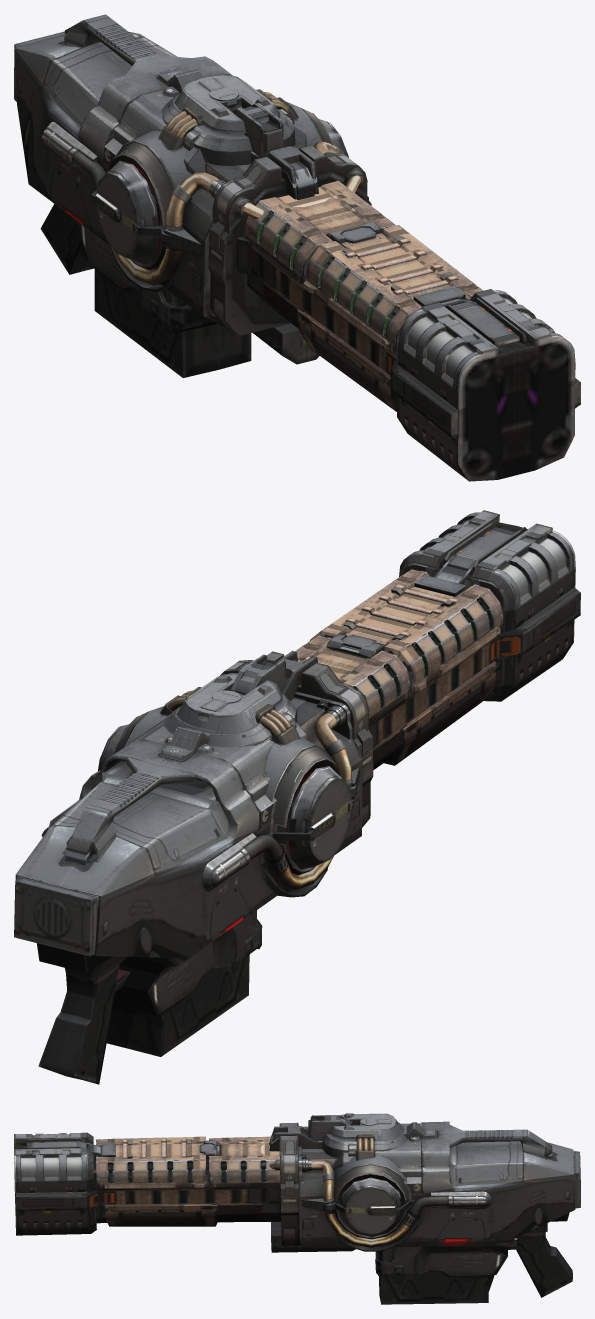
File: FPS_anim_W114.fbx
The picture shows the model from 3 angles, top to bottom: view 1: azimuth 30°, elevation 25°; view 2: azimuth 150°, elevation 25°; view 3: azimuth 270°, elevation 25°; orthographic projection. The views are drawn at different scales.
Visible parts, largest first — view 1: thansung, nongsung2; view 2: thansung, nongsung2; view 3: thansung, nongsung2.
Boxes of the visible parts, x1,y1,x2,y2 form: thansung: [14, 14, 371, 377]; nongsung2: [245, 180, 580, 481]; thansung: [14, 650, 373, 1084]; nongsung2: [295, 510, 580, 769]; thansung: [264, 1113, 580, 1304]; nongsung2: [14, 1132, 281, 1235].
Bounding box in the file's own units: 35.91 × 45.48 × 133.
